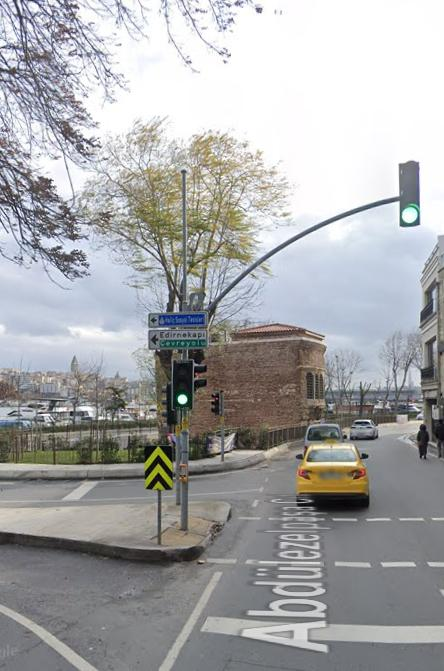greenlight: (397, 163, 423, 228), (171, 361, 193, 405)
